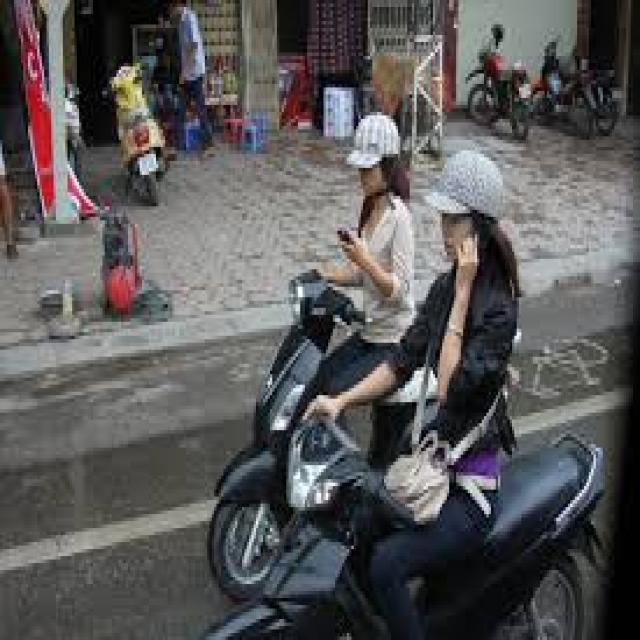USING_MOBILE: (338, 113, 403, 298), (438, 234, 481, 398)
